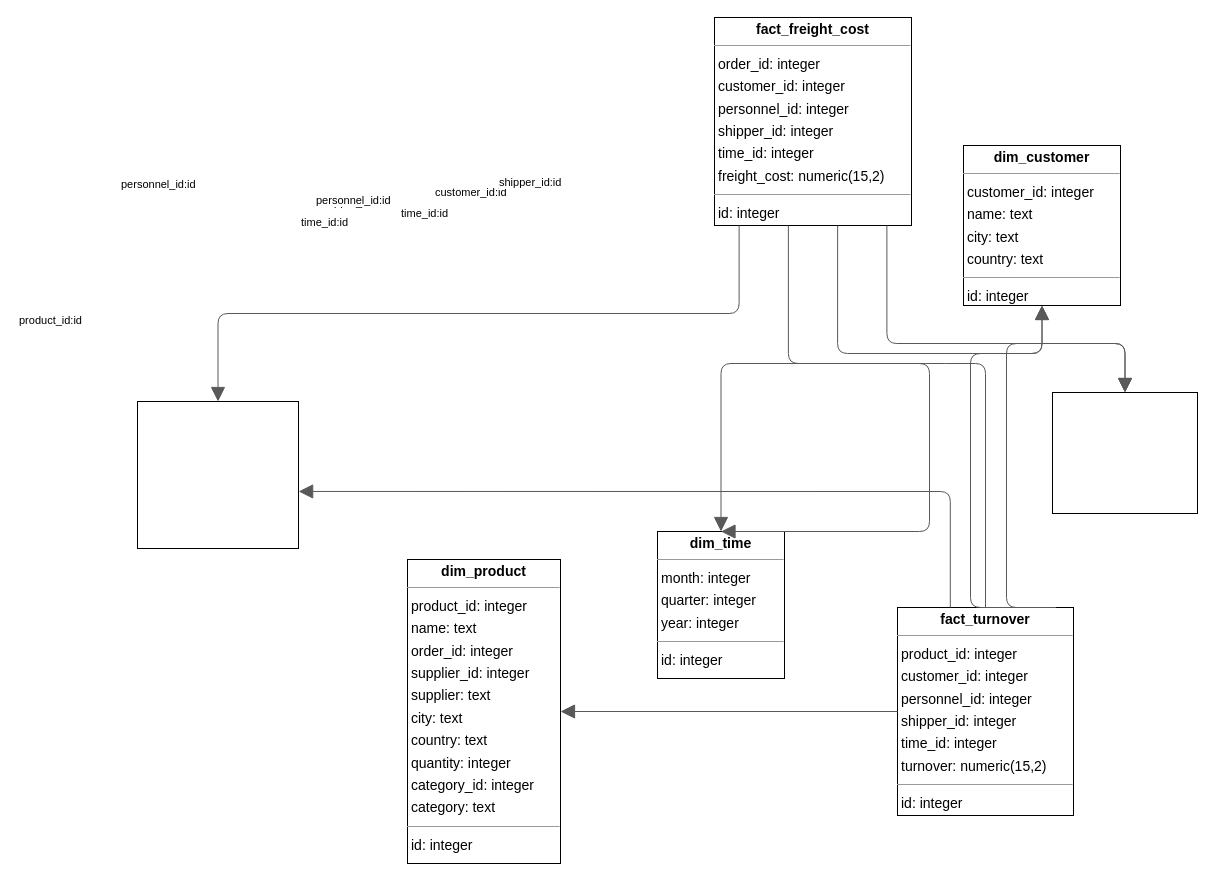
The diagram is 1215 pixels wide and 881 high, and some of its shapes have lost their labels. Here are the shapes that lost their labels. From the top down, the centre of each, then its label:
At (x=1125, y=453): "dim_shipper shipper_id: integer name: text id: integer".
At (x=217, y=474): "dim_personnel personnel_id: integer last_name: text first_name: text id: integer".
